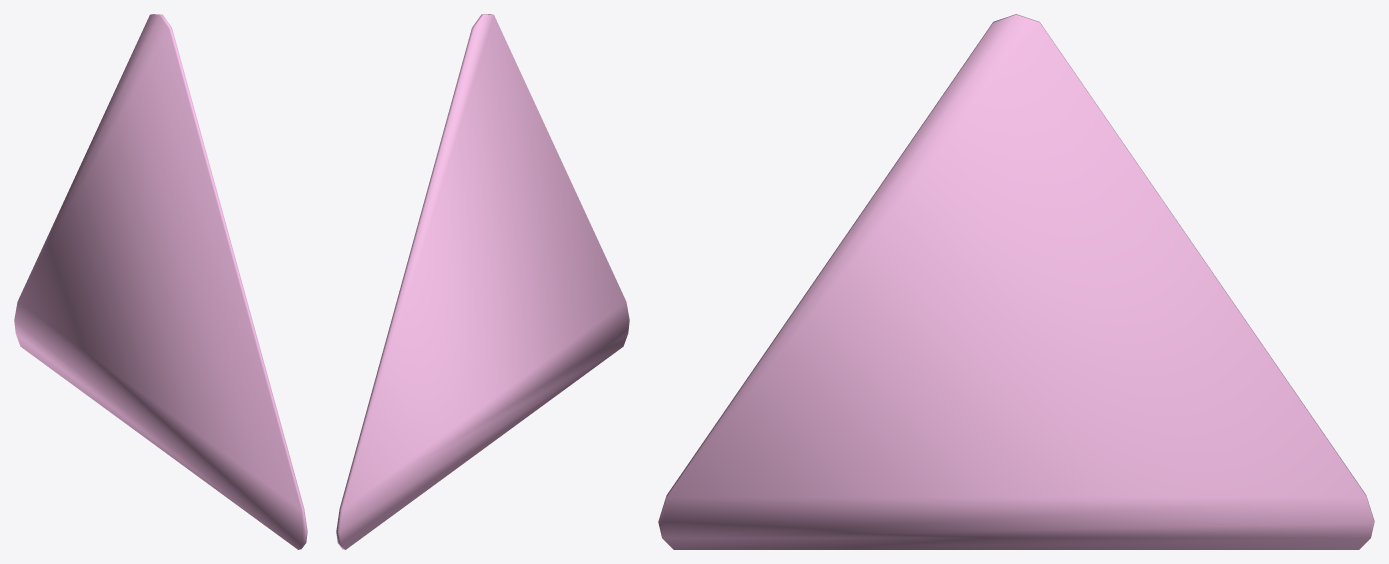
The model's file is signstreet008b.fbx.
The picture shows the model from 3 angles, left to right: view 1: azimuth 30°, elevation 25°; view 2: azimuth 150°, elevation 25°; view 3: azimuth 270°, elevation 25°; orthographic projection. The views are drawn at different scales.
Visible parts, largest first — view 1: streetsign005b_reference; view 2: streetsign005b_reference; view 3: streetsign005b_reference.
Boxes of the visible parts, <box> form: streetsign005b_reference: <box>14,14,307,549</box>; streetsign005b_reference: <box>336,14,629,549</box>; streetsign005b_reference: <box>658,14,1374,549</box>.
Size of the model in its own units: 18.04 by 2302 by 2798.
